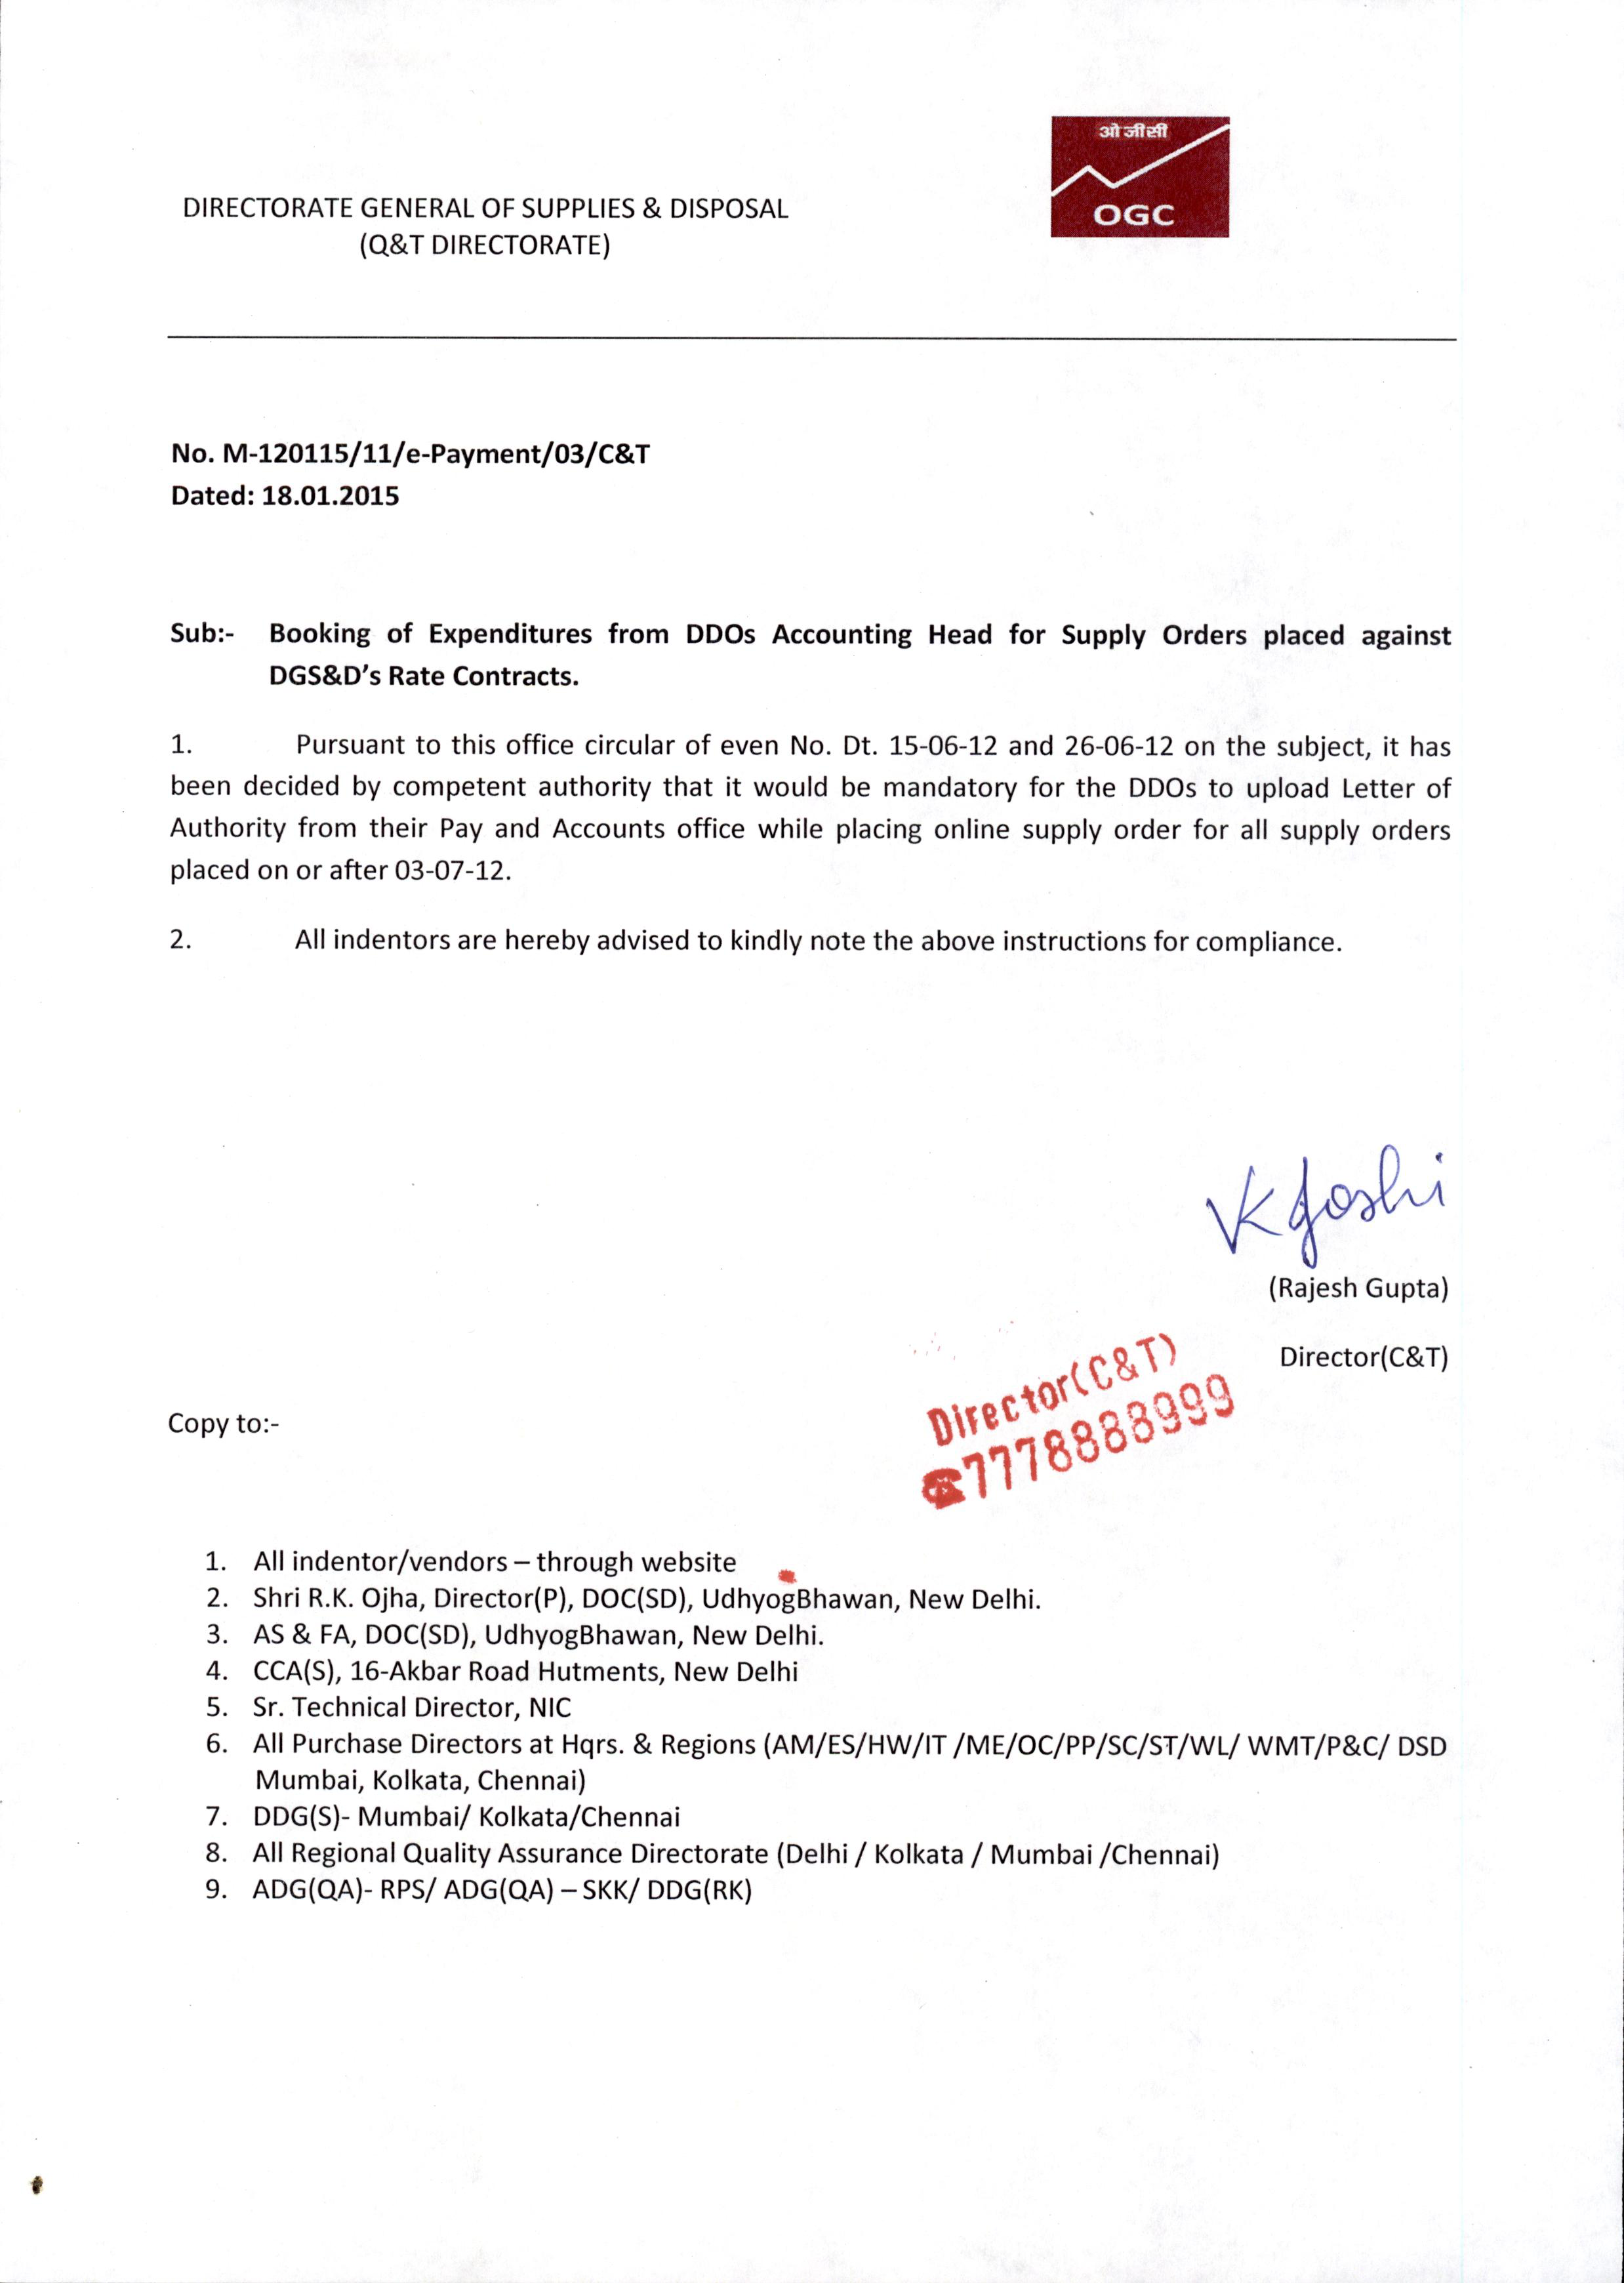Signature: (1192, 1135, 1455, 1274)
